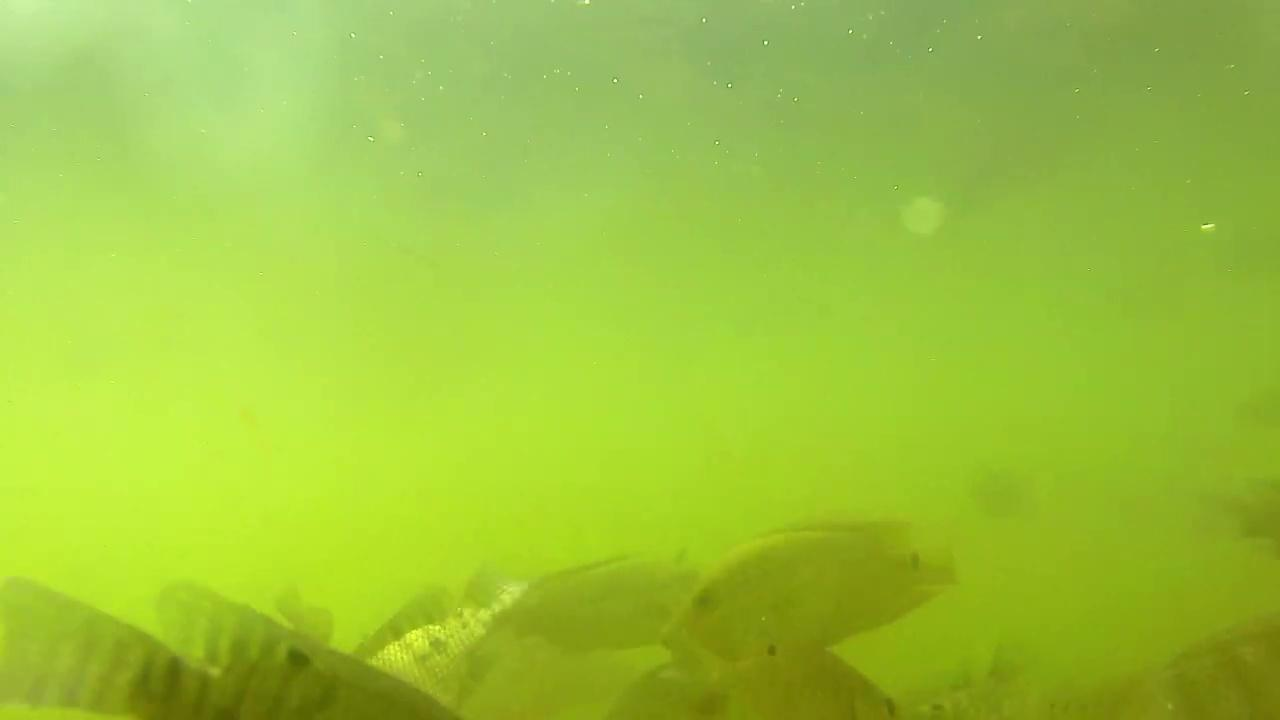Tilapia: (3, 566, 458, 720), (677, 512, 964, 650)
